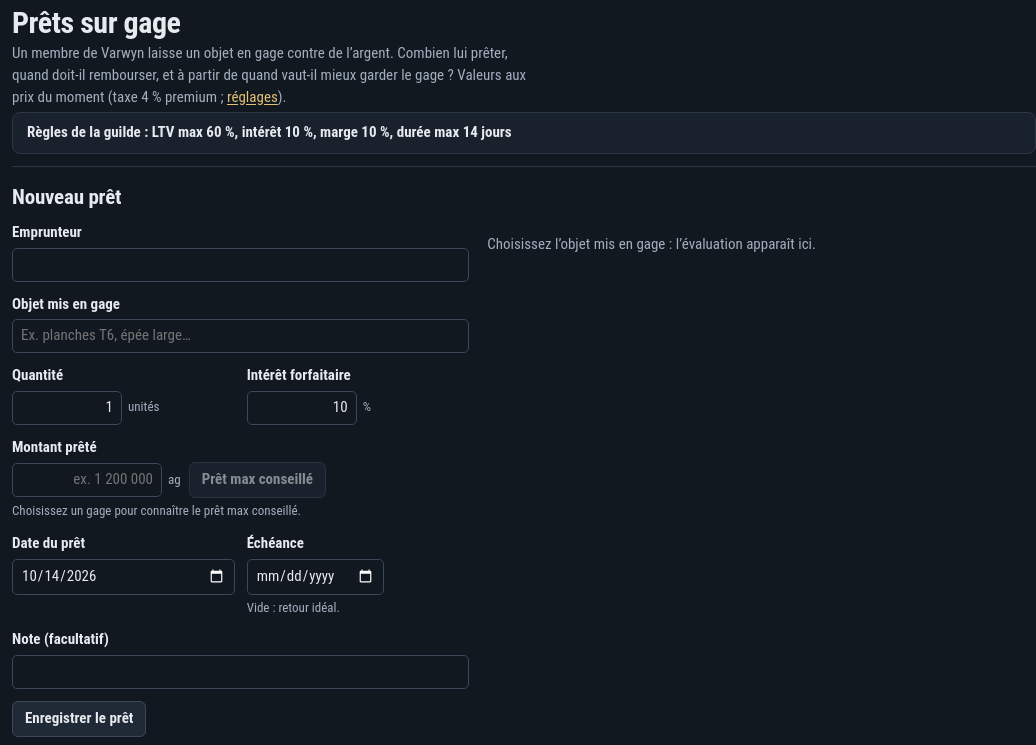
Scenario: page Prêts sur gage — évaluation › gage énorme : la revente rapide ne compte que 3 jours de ventes de la ville, avec un avertissement
Replace the text in the field labelled "Quantité" with "5000" at (67, 408), box [12, 391, 122, 425]
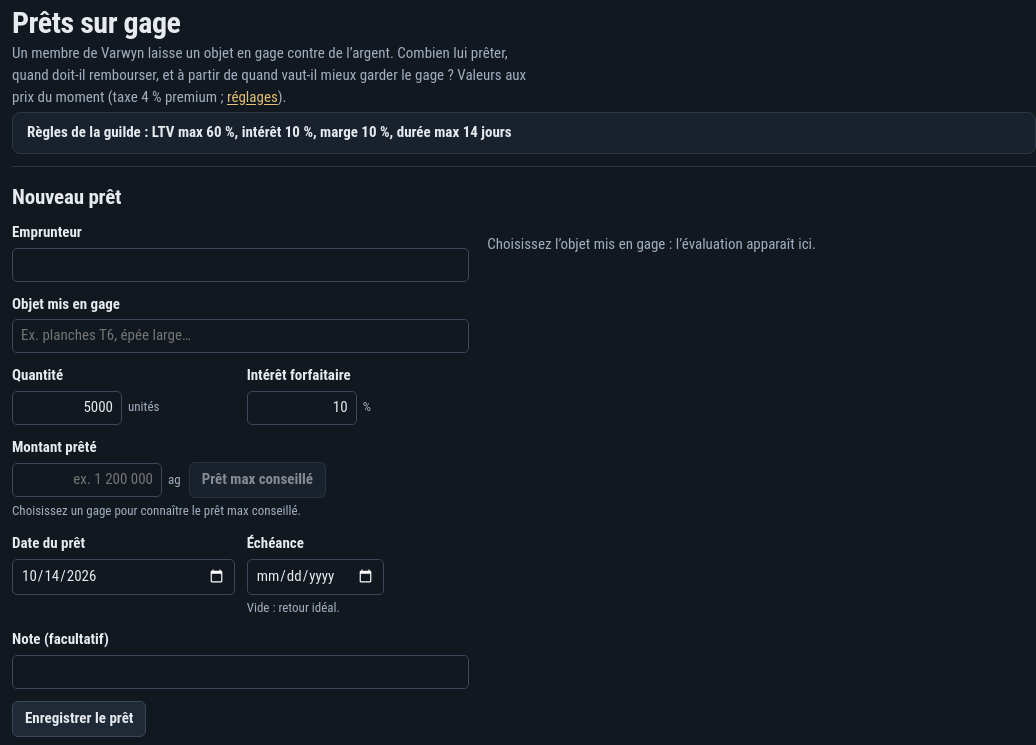
Type "chêne sanguin" into the search field labelled "Objet mis en gage" at (241, 336), box [12, 319, 469, 353]
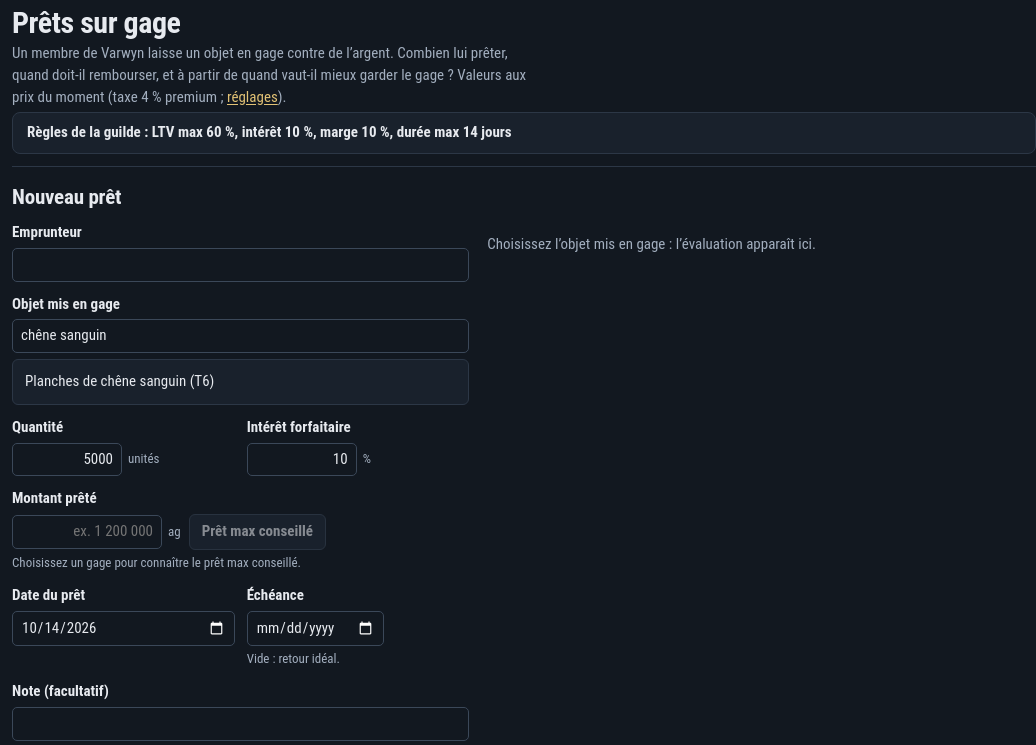
Click the button "Planches de chêne sanguin (T6)" at (120, 381), box [17, 364, 464, 400]
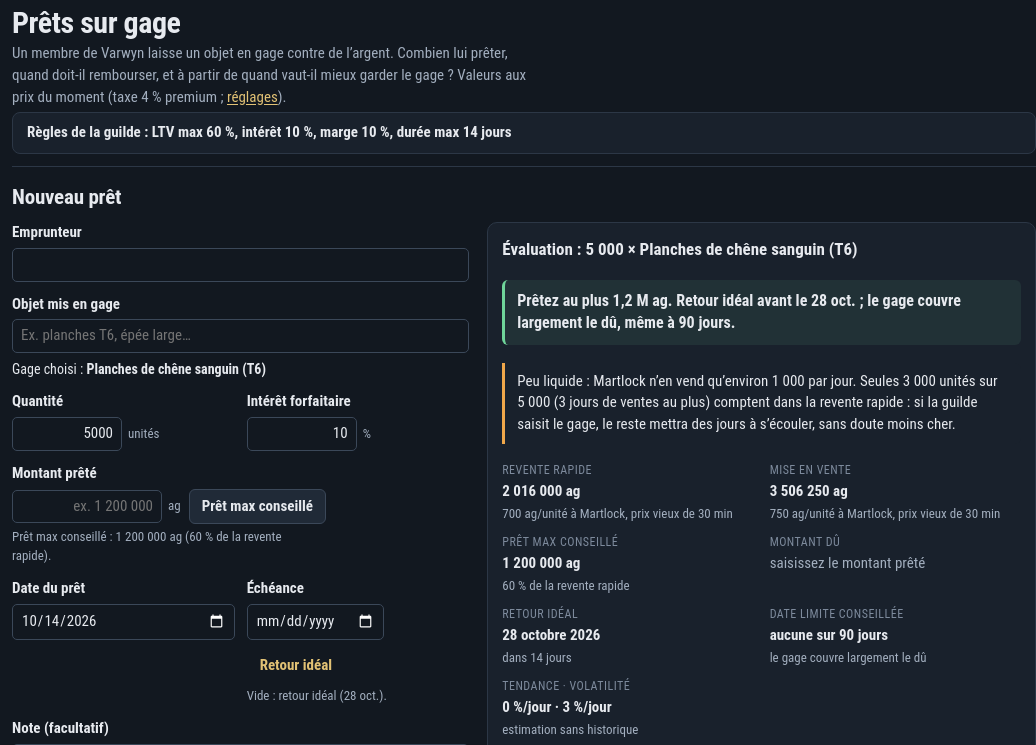
Now the element that starts with "Évaluation :" shows "2 016 000 ag", box [502, 482, 580, 500]
Now the text with test id "gl-liquidity" shows "Seules 3 000 unités sur 5 000", box [502, 363, 1021, 444]
